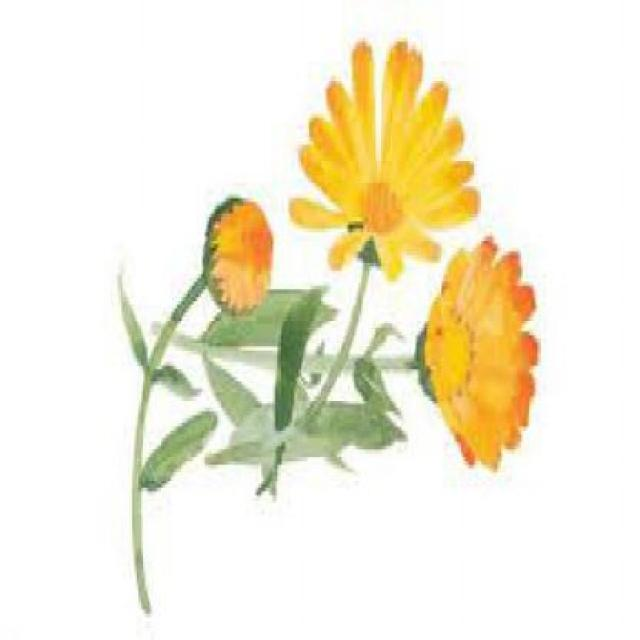Flower: (290, 34, 478, 286), (425, 232, 540, 477), (359, 183, 402, 232)
